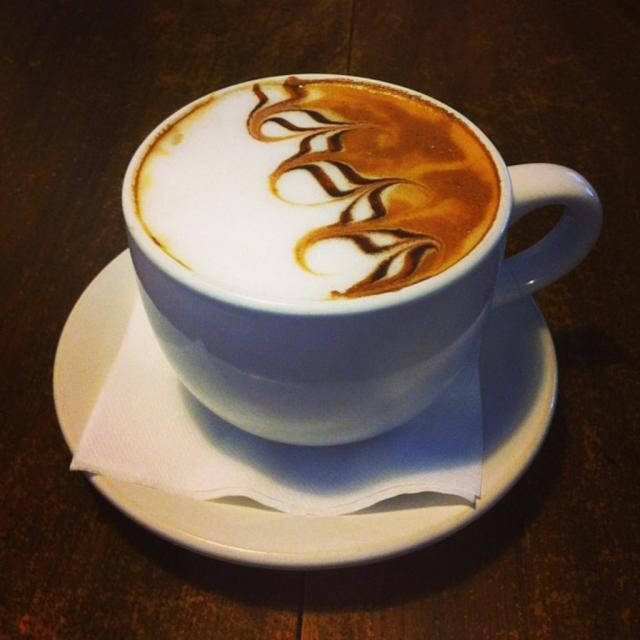Coffee: (130, 74, 502, 302)
Tea: (131, 73, 500, 297)
